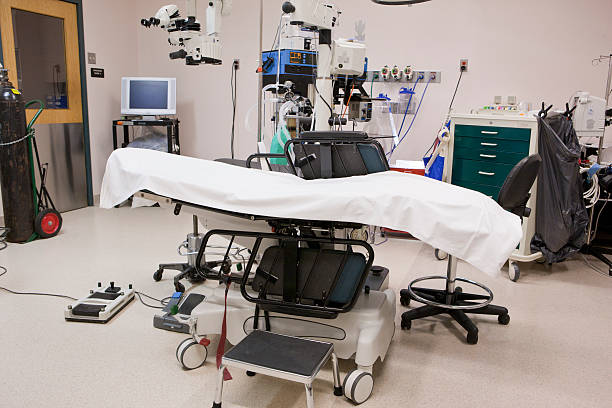bedside_monitor: (120, 76, 178, 117)
breathing_tube: (242, 82, 301, 173)
chair: (400, 154, 545, 344)
handle: (480, 142, 497, 147), (479, 154, 496, 158), (478, 171, 495, 175), (481, 131, 499, 134)
iv_pole: (593, 51, 612, 165)
light_switch: (88, 51, 100, 68)
medical_drawer: (435, 112, 541, 280)
operating_bed: (103, 147, 511, 407)
